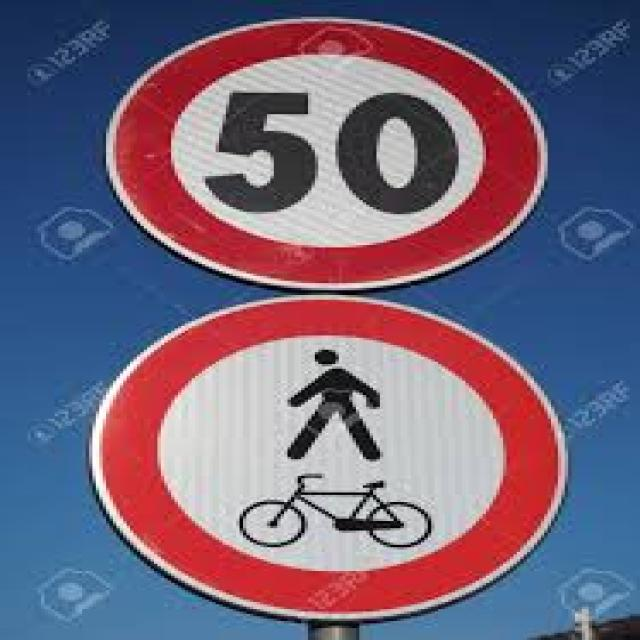Speed limit 50: (100, 16, 552, 292)
